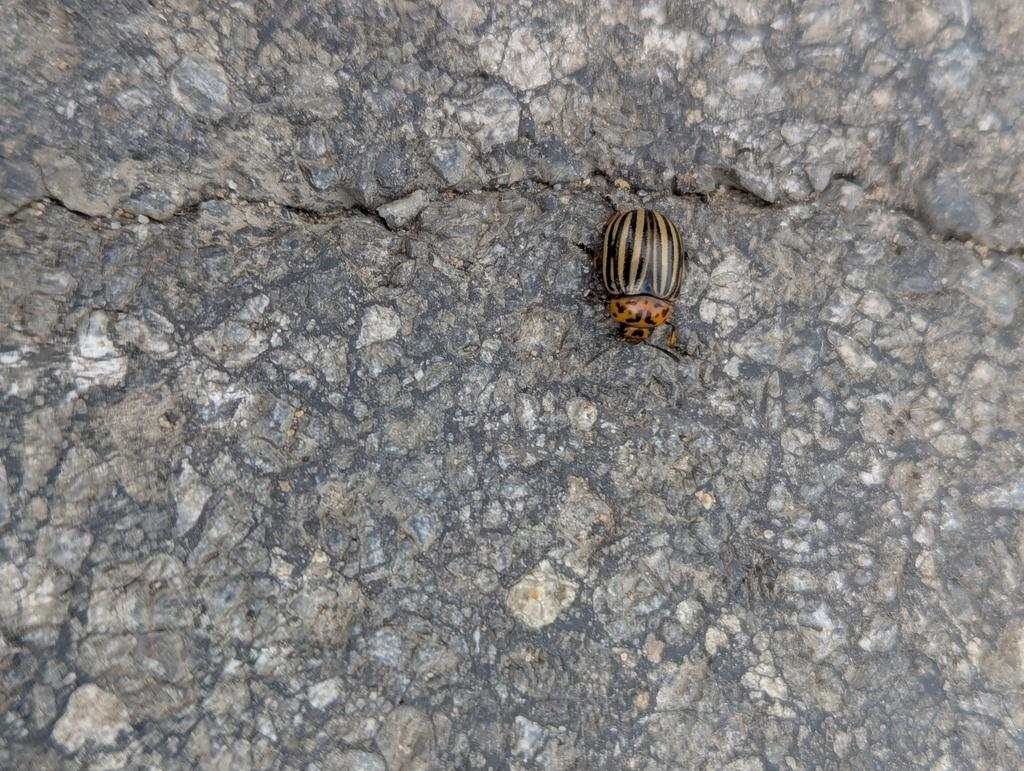potato_beetle: (549, 164, 750, 390)
